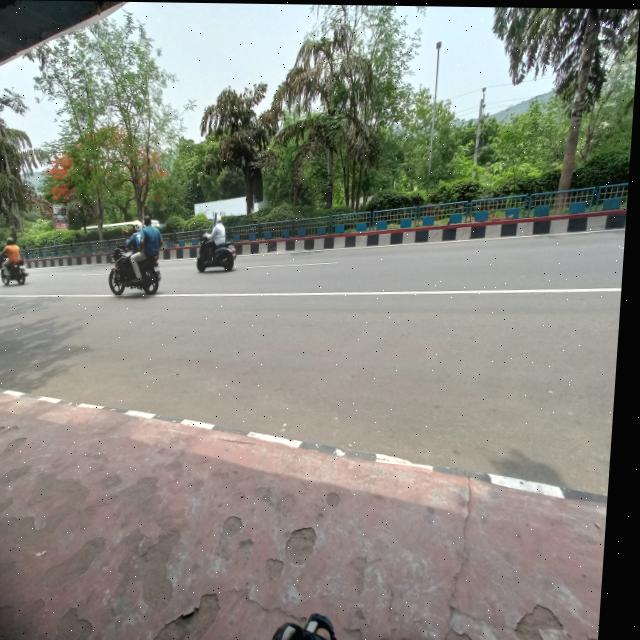bike: (106, 238, 177, 301), (198, 233, 245, 274), (0, 247, 35, 293)
